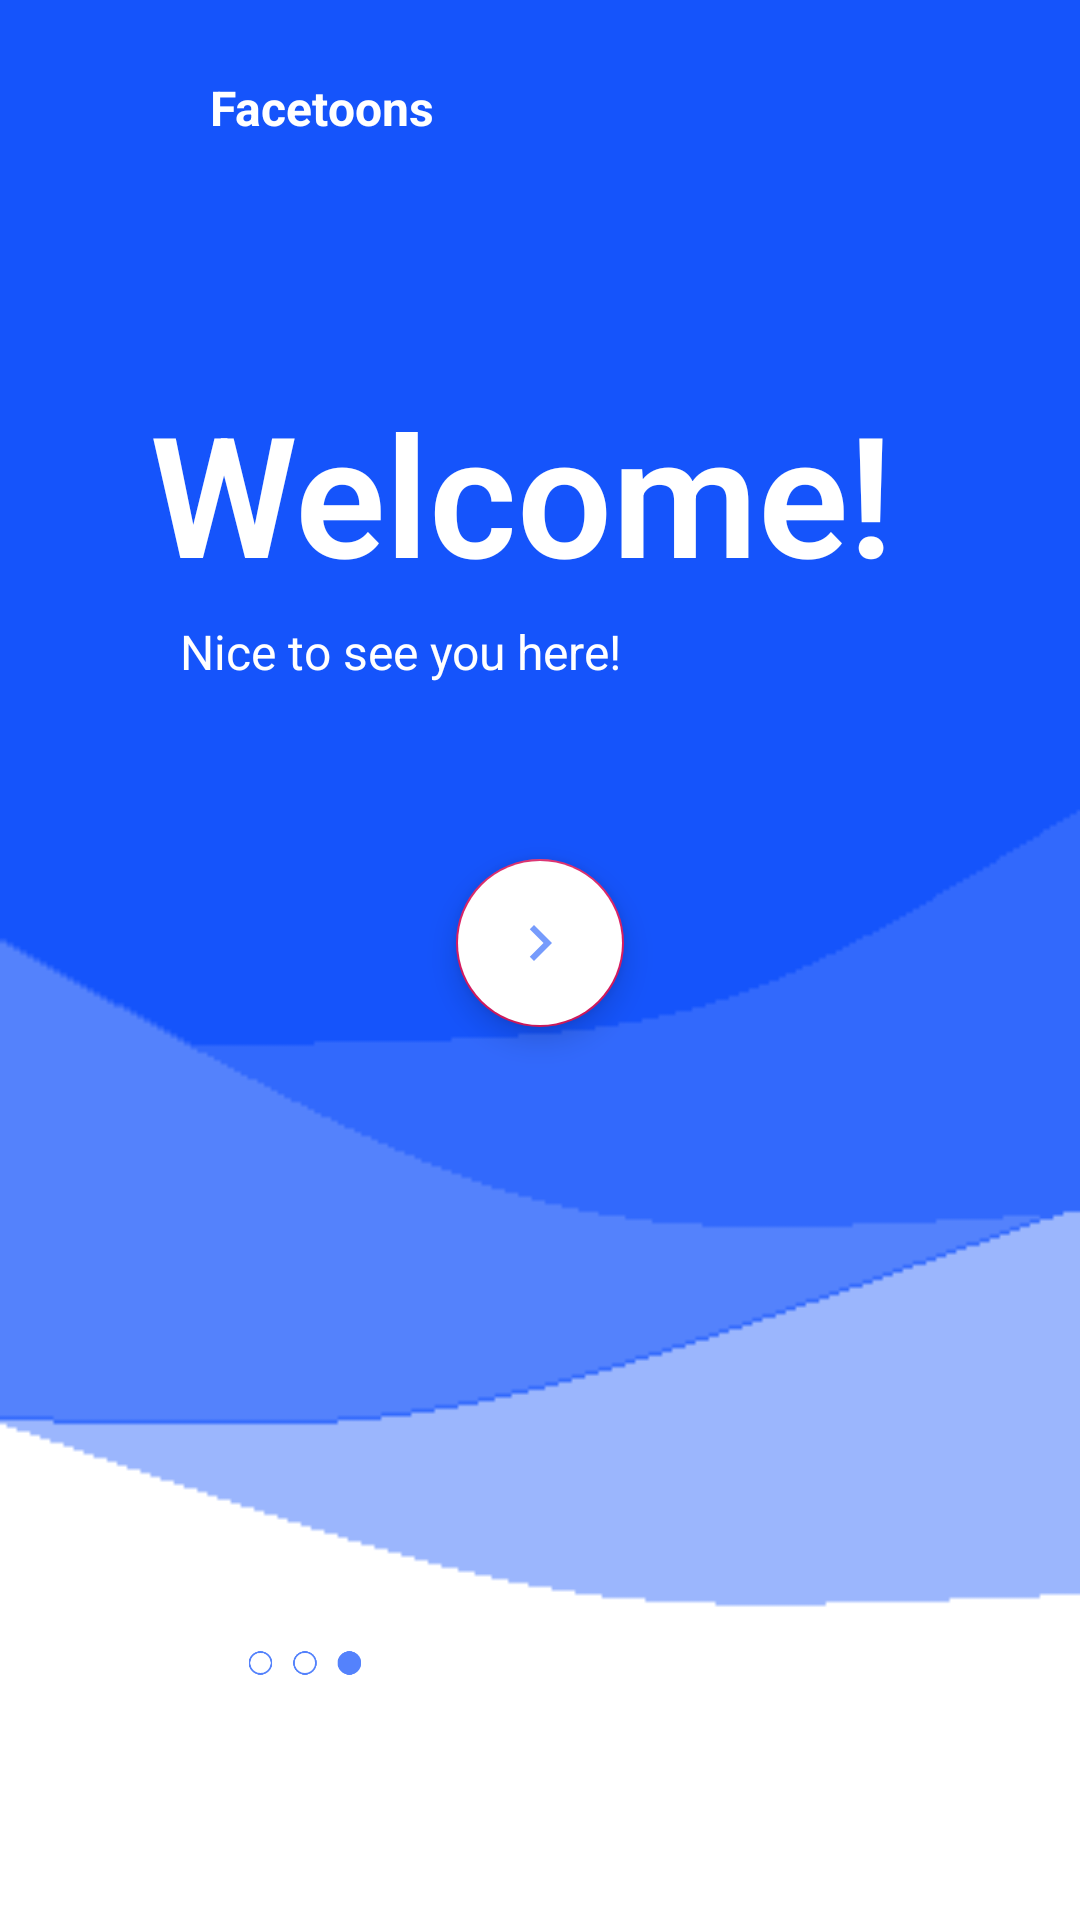

Icons on this 1080px×1920px Android screen, each with the point to tap as (x,y):
next: (540,943)
tab: (305,1663)
